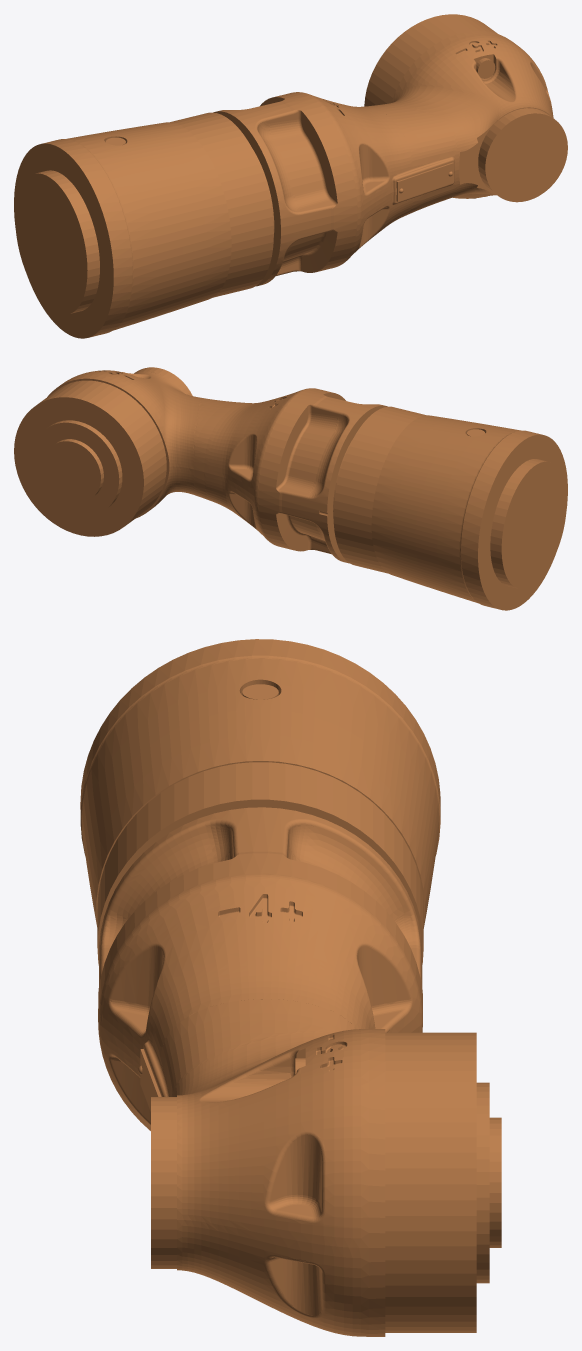
The picture shows the model from 3 angles, top to bottom: view 1: azimuth 30°, elevation 25°; view 2: azimuth 150°, elevation 25°; view 3: azimuth 270°, elevation 25°; orthographic projection. The views are drawn at different scales.
Parts seen in each view (by area): view 1: link4_; view 2: link4_; view 3: link4_.
Part boxes in pixels (x1,y1,x2,y2): link4_: (14, 14, 567, 338); link4_: (14, 367, 567, 610); link4_: (80, 639, 501, 1336).
Size of the model in its own units: 0.414 by 0.1613 by 0.138.
